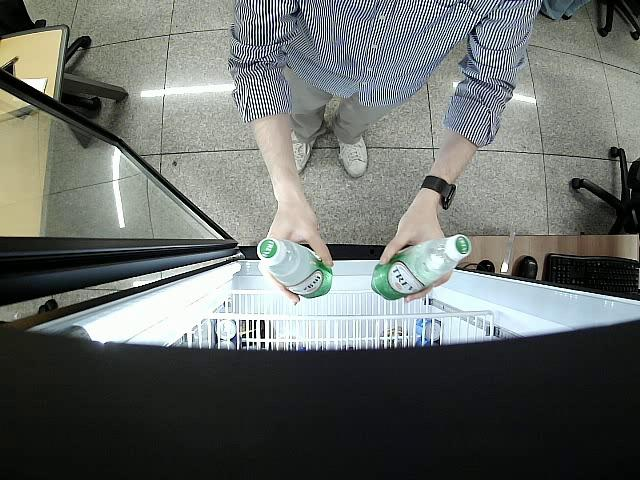00_hand: (378, 203, 453, 303), (257, 209, 334, 306)
18_trevi: (372, 234, 471, 302), (257, 238, 332, 299)
